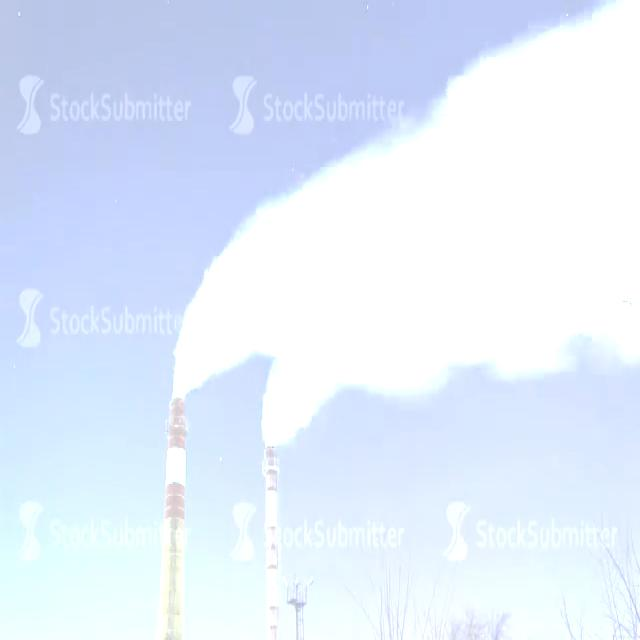smoke: (172, 0, 640, 450)
